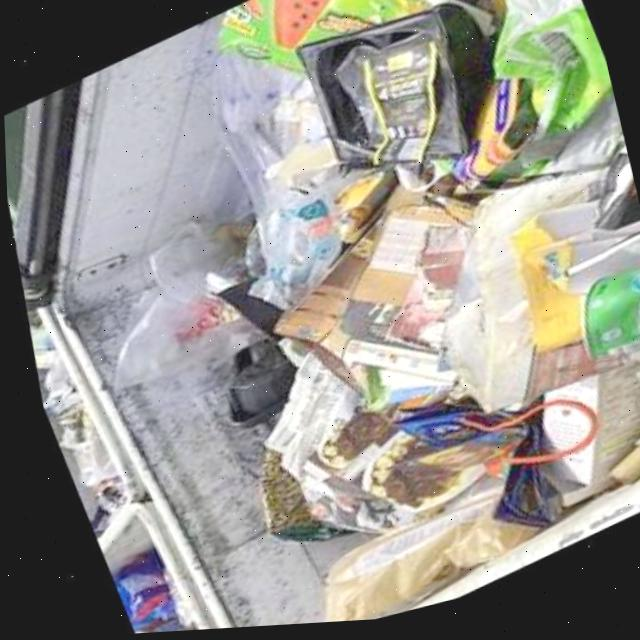Garbage: (108, 0, 640, 626), (23, 329, 121, 516), (106, 553, 172, 635)
Plastic: (289, 12, 483, 171), (221, 344, 289, 429)
Plastic_Bag: (112, 228, 254, 391), (480, 0, 607, 143), (212, 0, 417, 79), (107, 555, 171, 633), (620, 348, 640, 397)
